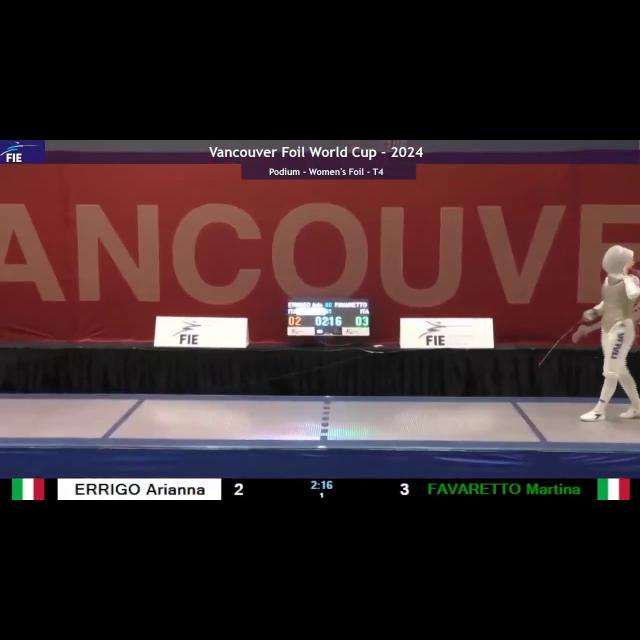blade: (538, 308, 598, 368)
